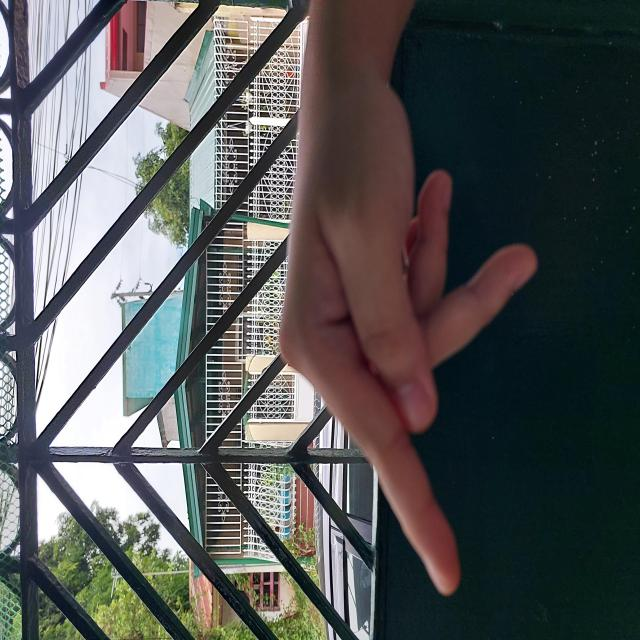P: (225, 73, 595, 622)
